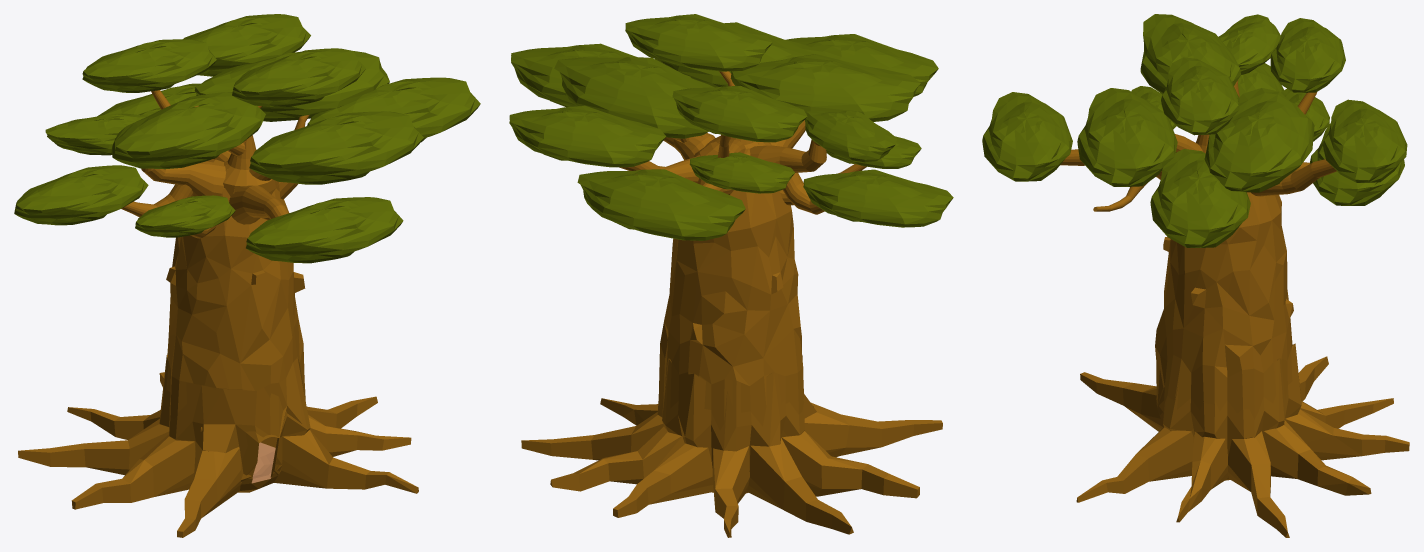
Rendered from Baobab Tree2.fbx.
3 views of the same model, side by side, from view 1: azimuth 30°, elevation 25°; view 2: azimuth 150°, elevation 25°; view 3: azimuth 270°, elevation 25° (orthographic). The views are drawn at different scales.
Parts seen in each view (by area): view 1: Baobab2; view 2: Baobab2; view 3: Baobab2.
Part boxes in pixels (x1=…): Baobab2: x1=14, y1=14, x2=480, y2=537; Baobab2: x1=509, y1=14, x2=953, y2=537; Baobab2: x1=982, y1=14, x2=1409, y2=537.
Size of the model in its own units: 2514 by 2288 by 2158.
Materials: 1 (1 with a texture image).
